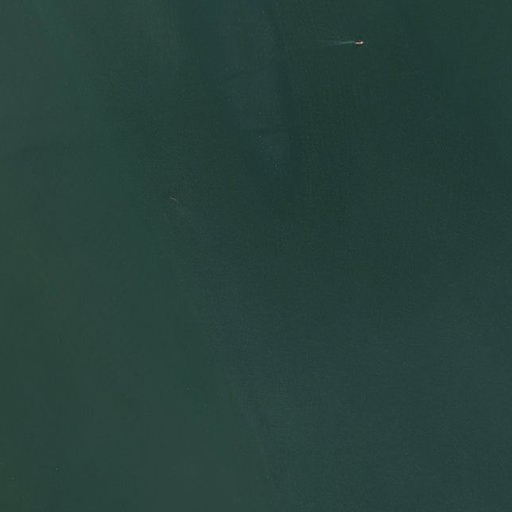ship: (355, 41, 363, 45)
